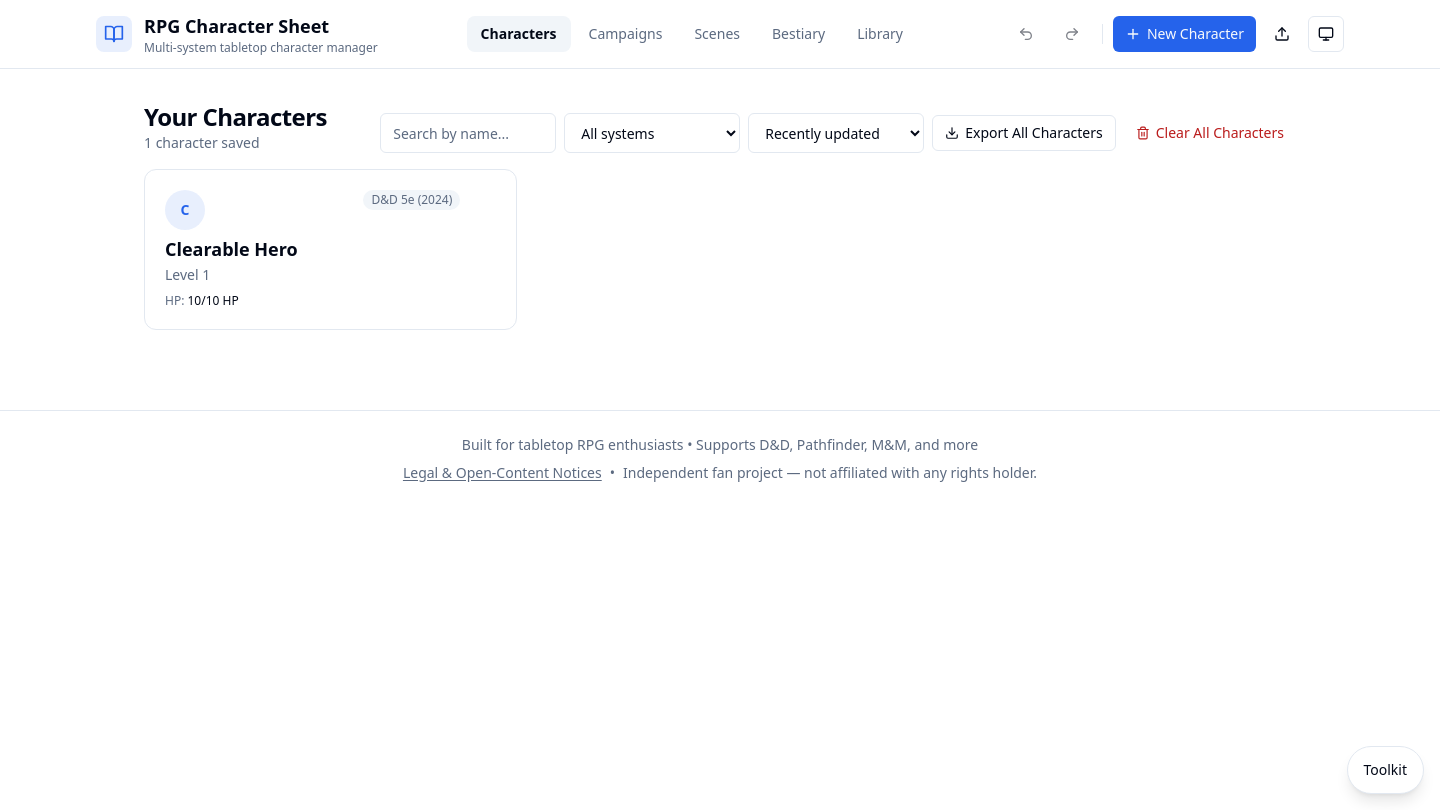
Test: Character Management Flow › clears all characters when confirmation is accepted
The image size is (1440, 810).
Expected: the heading "Clearable Hero" is shown, [165, 237, 298, 261]
What coordinates should you click on to do the following:
click the button "Clear All Characters"
I would click on:
 (1210, 133)
Its box is [1124, 115, 1296, 151].
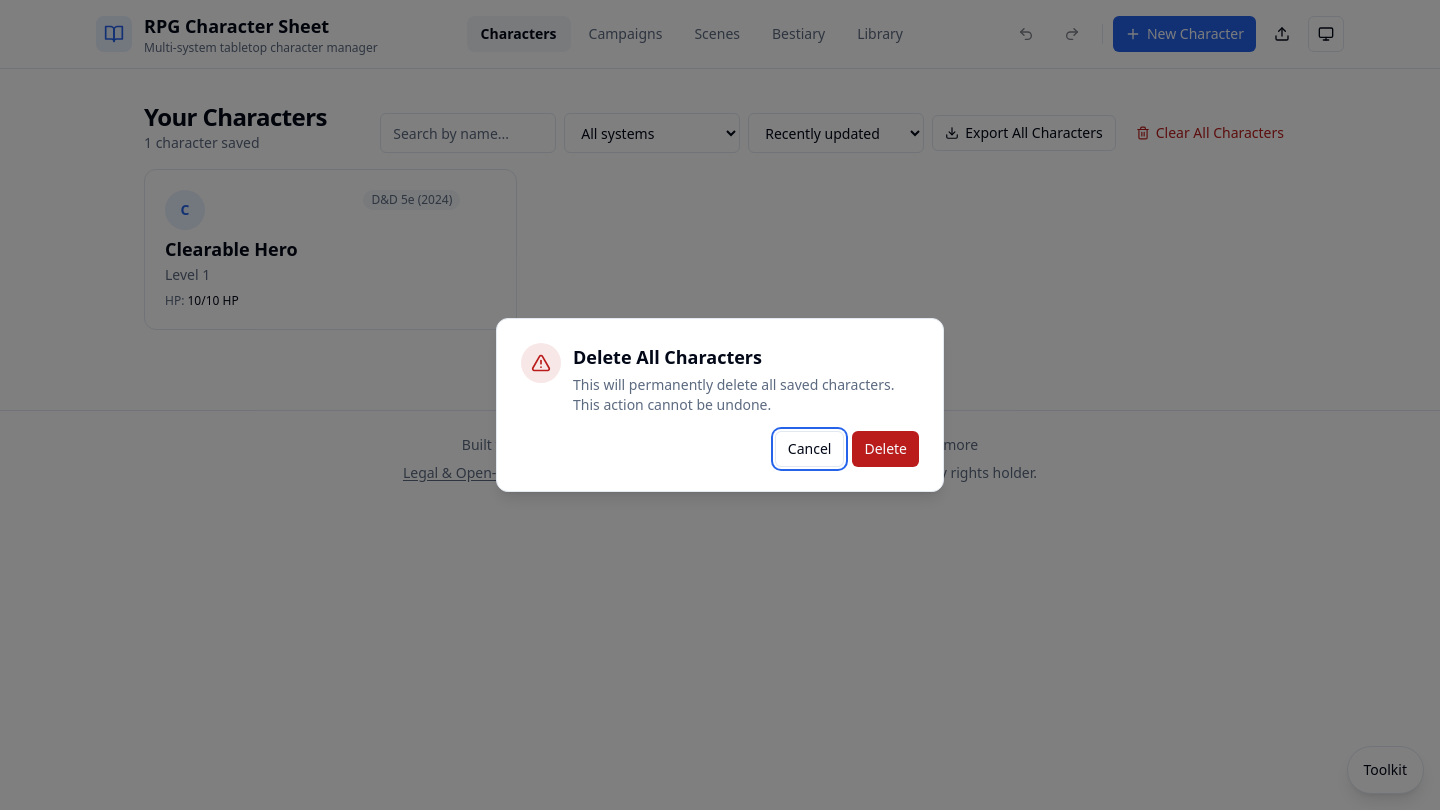
# ConfirmDialog opens — click the Delete button to confirm
What coordinates should you click on to do the following:
click the button "Delete"
I would click on:
 (886, 449)
Its box is [852, 431, 919, 467].
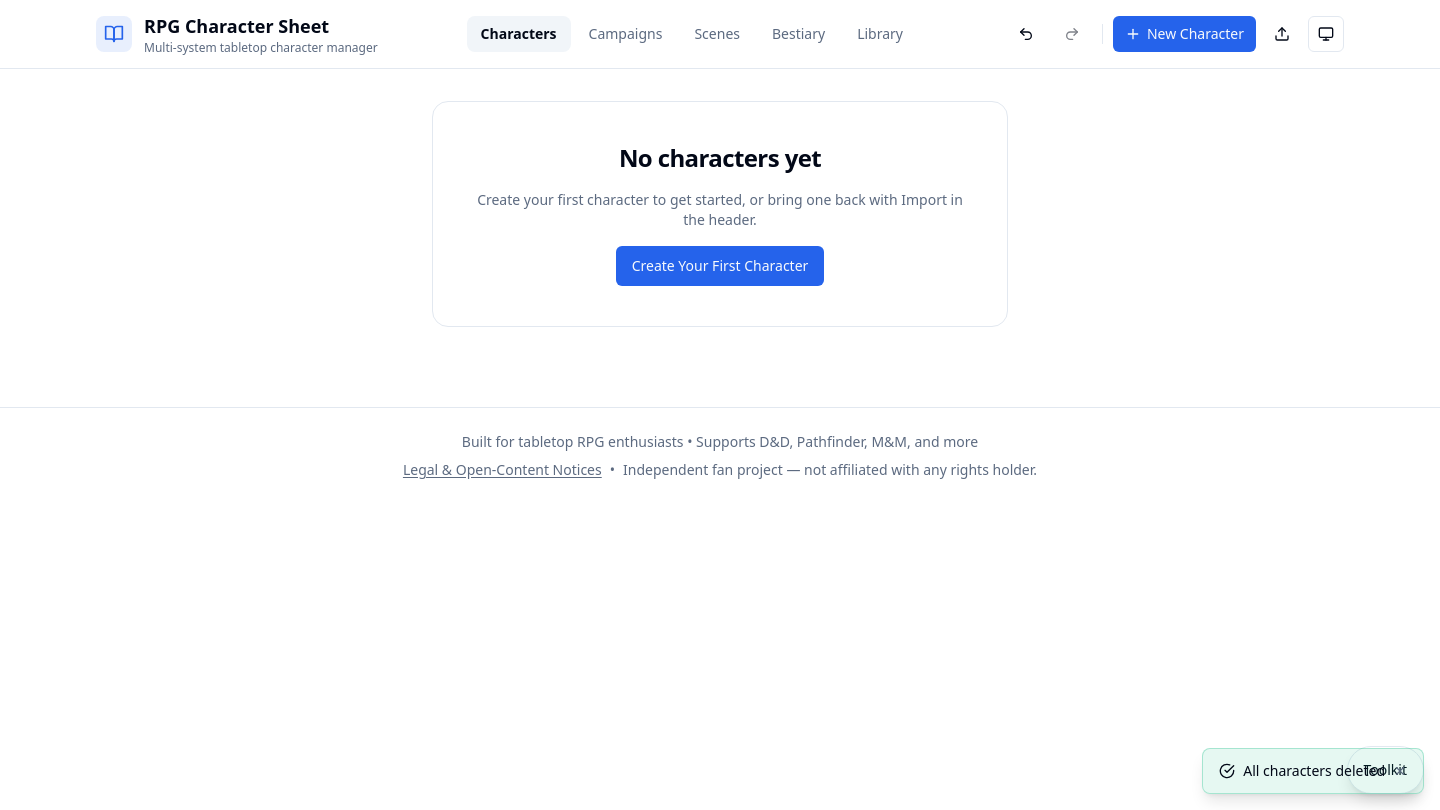
Expected: the heading "Your Characters" is gone
